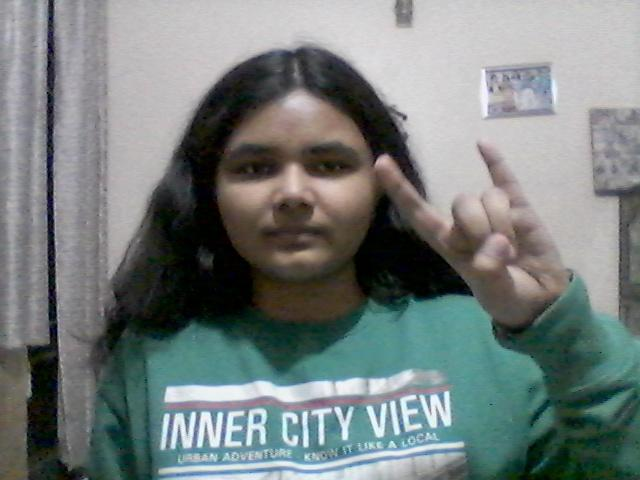ilove you: (363, 138, 586, 340)
